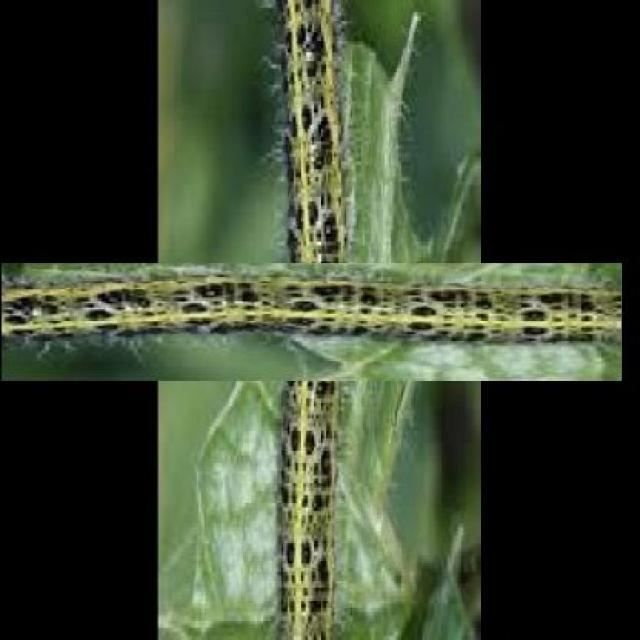Plaga: (113, 133, 493, 511)
